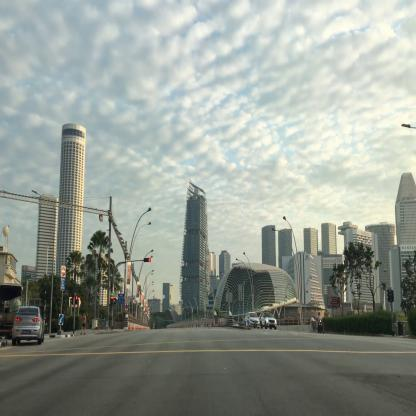red_traffic_light: (144, 258, 151, 262), (111, 296, 113, 305)
